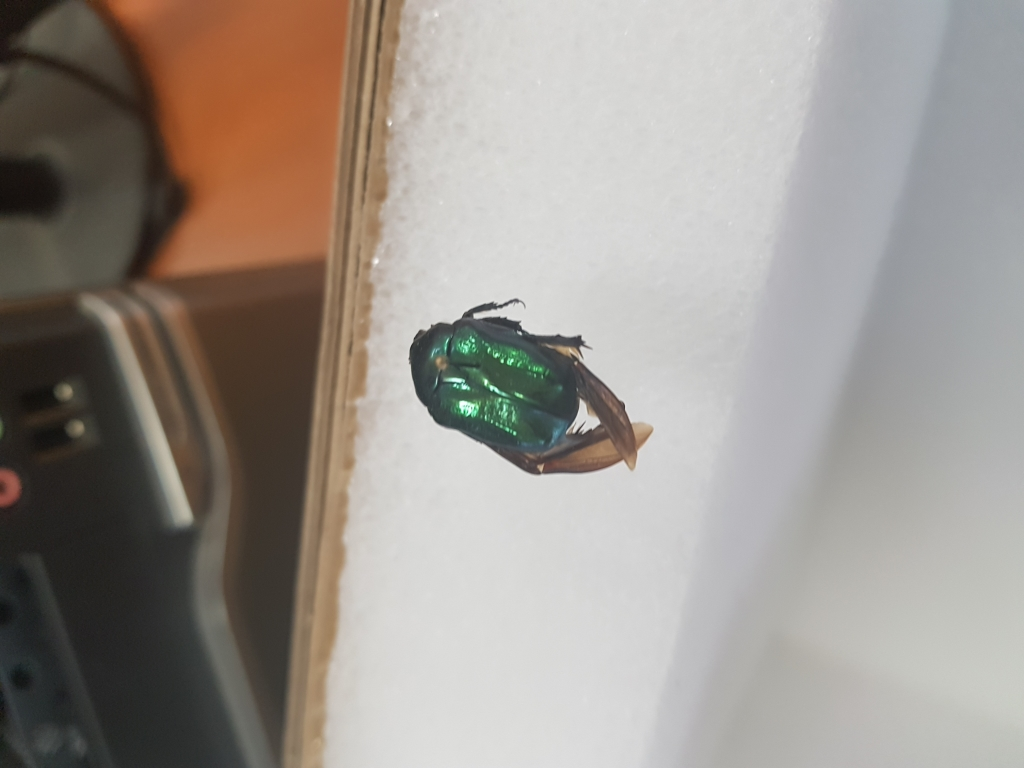Protaetia_angustata_angustata: (403, 291, 659, 493)
